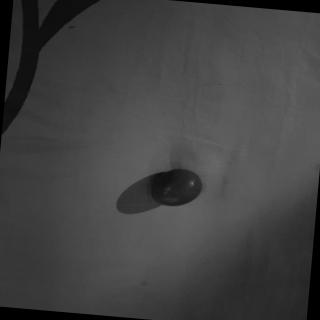Telur: (150, 166, 206, 212)
